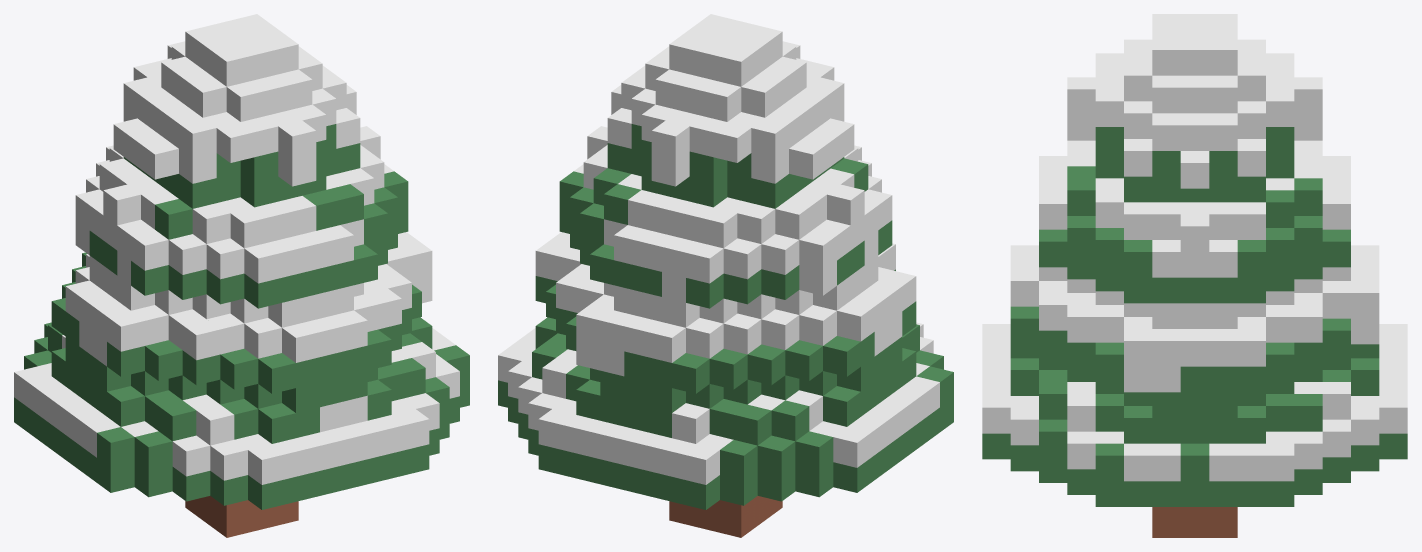
File: tree_round_3_lo.obj
3 views of the same model, side by side, from view 1: azimuth 30°, elevation 25°; view 2: azimuth 150°, elevation 25°; view 3: azimuth 270°, elevation 25° (orthographic). The views are drawn at different scales.
Visible parts, largest first — view 1: tree_round_3_lo; view 2: tree_round_3_lo; view 3: tree_round_3_lo.
Boxes of the visible parts, x1,y1,x2,y2 form: tree_round_3_lo: [14, 14, 469, 537]; tree_round_3_lo: [498, 14, 953, 537]; tree_round_3_lo: [982, 14, 1407, 537].
Size of the model in its own units: 3 by 3.8 by 3.
Materials: 1 (1 with a texture image).
